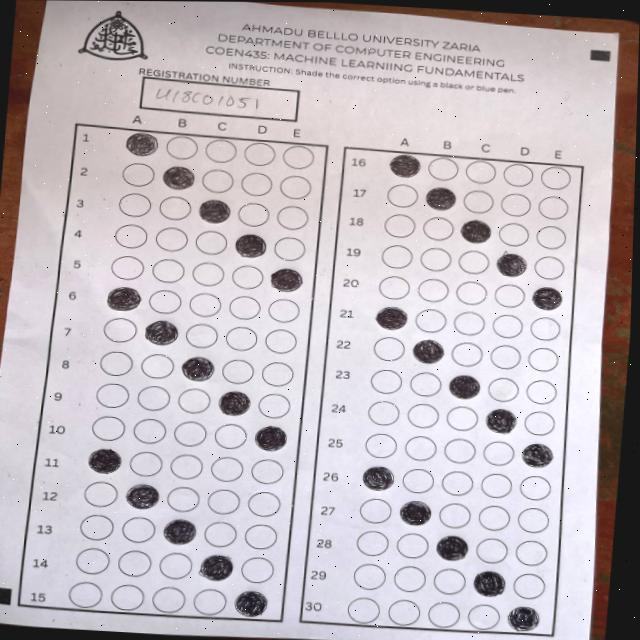bubble: (123, 131, 161, 159), (233, 589, 269, 618), (87, 447, 123, 475), (162, 518, 198, 546), (198, 554, 234, 582), (106, 285, 143, 312), (471, 570, 506, 598), (435, 534, 470, 562), (506, 605, 541, 633), (125, 483, 161, 510), (181, 355, 216, 382), (398, 500, 433, 527), (143, 319, 179, 345), (448, 373, 482, 400), (254, 425, 288, 452), (269, 267, 304, 293), (459, 218, 492, 245), (495, 251, 528, 278), (218, 390, 251, 417), (197, 199, 231, 225), (375, 305, 409, 331), (412, 339, 446, 365), (520, 442, 554, 468), (484, 408, 518, 434), (530, 286, 563, 312), (234, 233, 267, 259), (362, 465, 395, 491), (162, 165, 196, 190), (424, 186, 457, 211), (389, 154, 422, 178)
